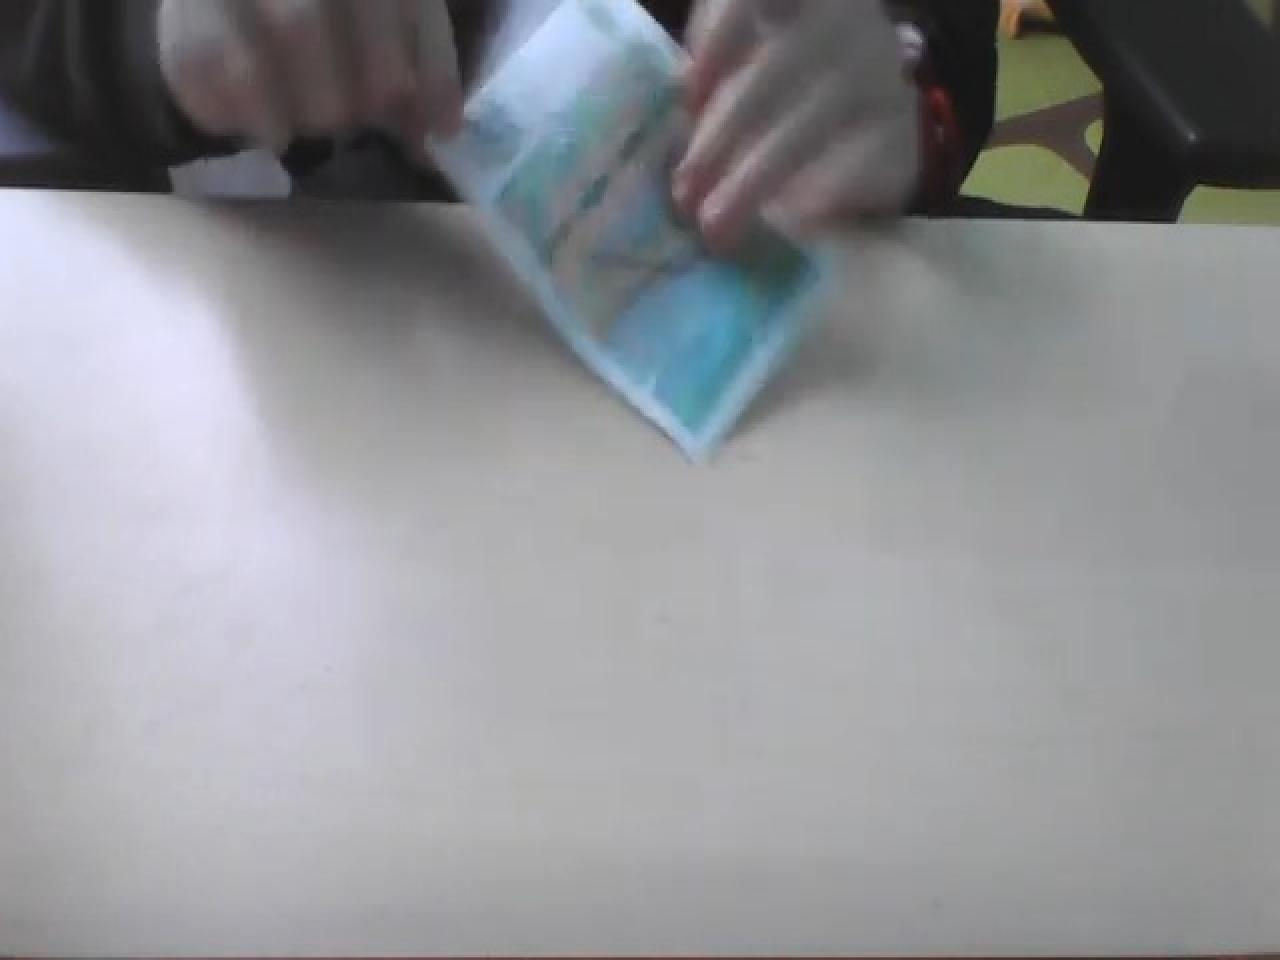100leva: (424, 0, 830, 461)
